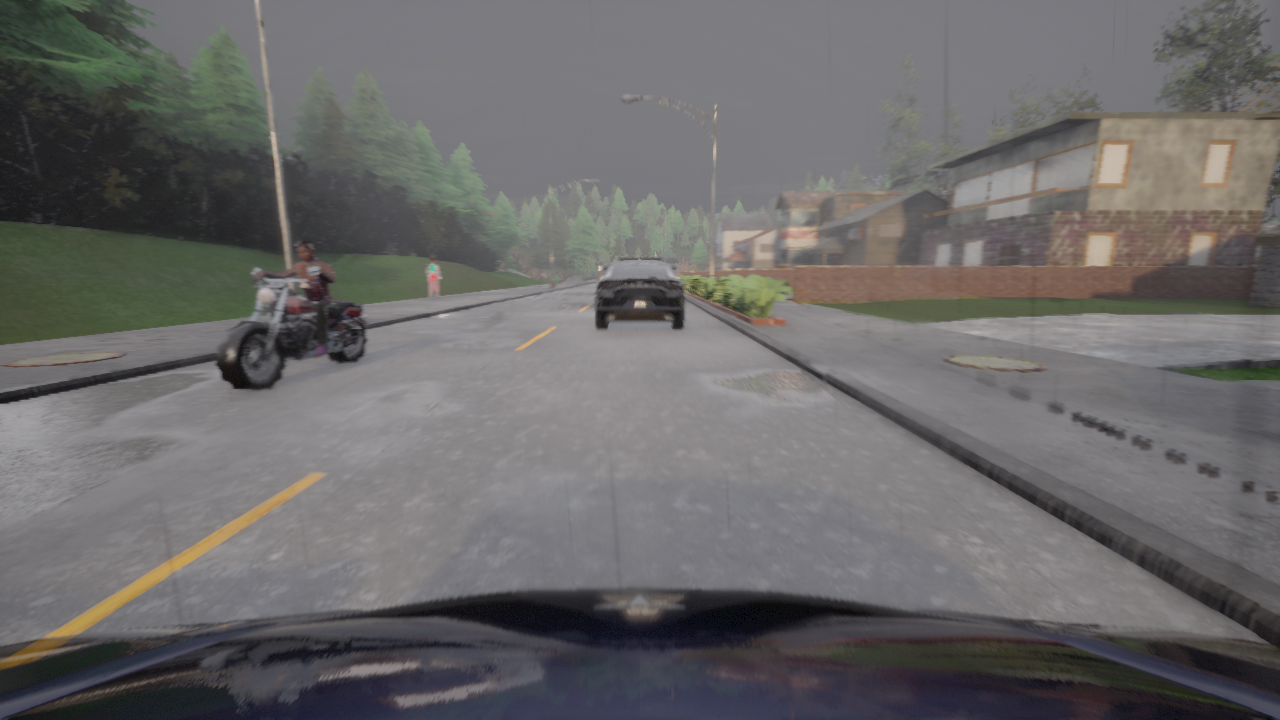cyclist: (0, 588, 1279, 719), (215, 267, 367, 390), (595, 255, 684, 328)
pedestrian: (427, 257, 440, 298), (568, 267, 572, 283)
